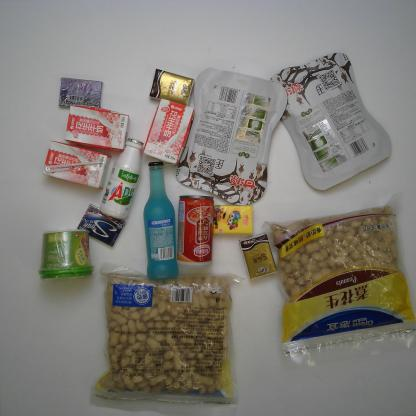Alcohol: (142, 160, 180, 282)
Canned Food: (176, 194, 215, 267)
Dried Food: (262, 195, 415, 360), (88, 261, 246, 415)
Dried Fruit: (268, 52, 392, 193), (175, 68, 288, 205)
Gum: (76, 204, 126, 248), (58, 76, 104, 110)
Instant Drink: (36, 229, 96, 282)
Milk: (142, 97, 195, 166), (100, 138, 144, 221), (41, 140, 112, 190), (63, 104, 130, 152)
Tissue: (148, 68, 196, 108), (238, 232, 278, 280), (212, 204, 254, 236)
